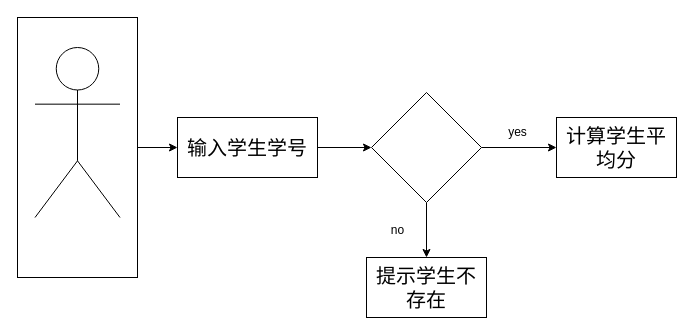
Some shapes in this 694 by 335 pixel diagram are drawn without their labels. Here are the shapes that lost their labels. From the top down, the centre of each, then its label:
At (77,132): "Actor".
At (426,147): "学生存在".
